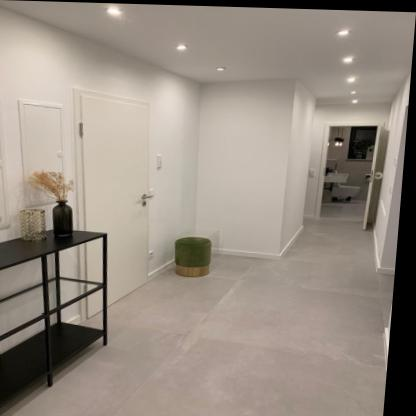Ceramic floor: (9, 207, 399, 416)
